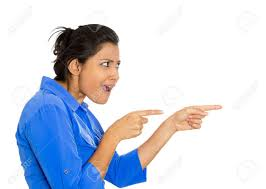hand: (98, 104, 168, 145), (173, 96, 228, 138)
